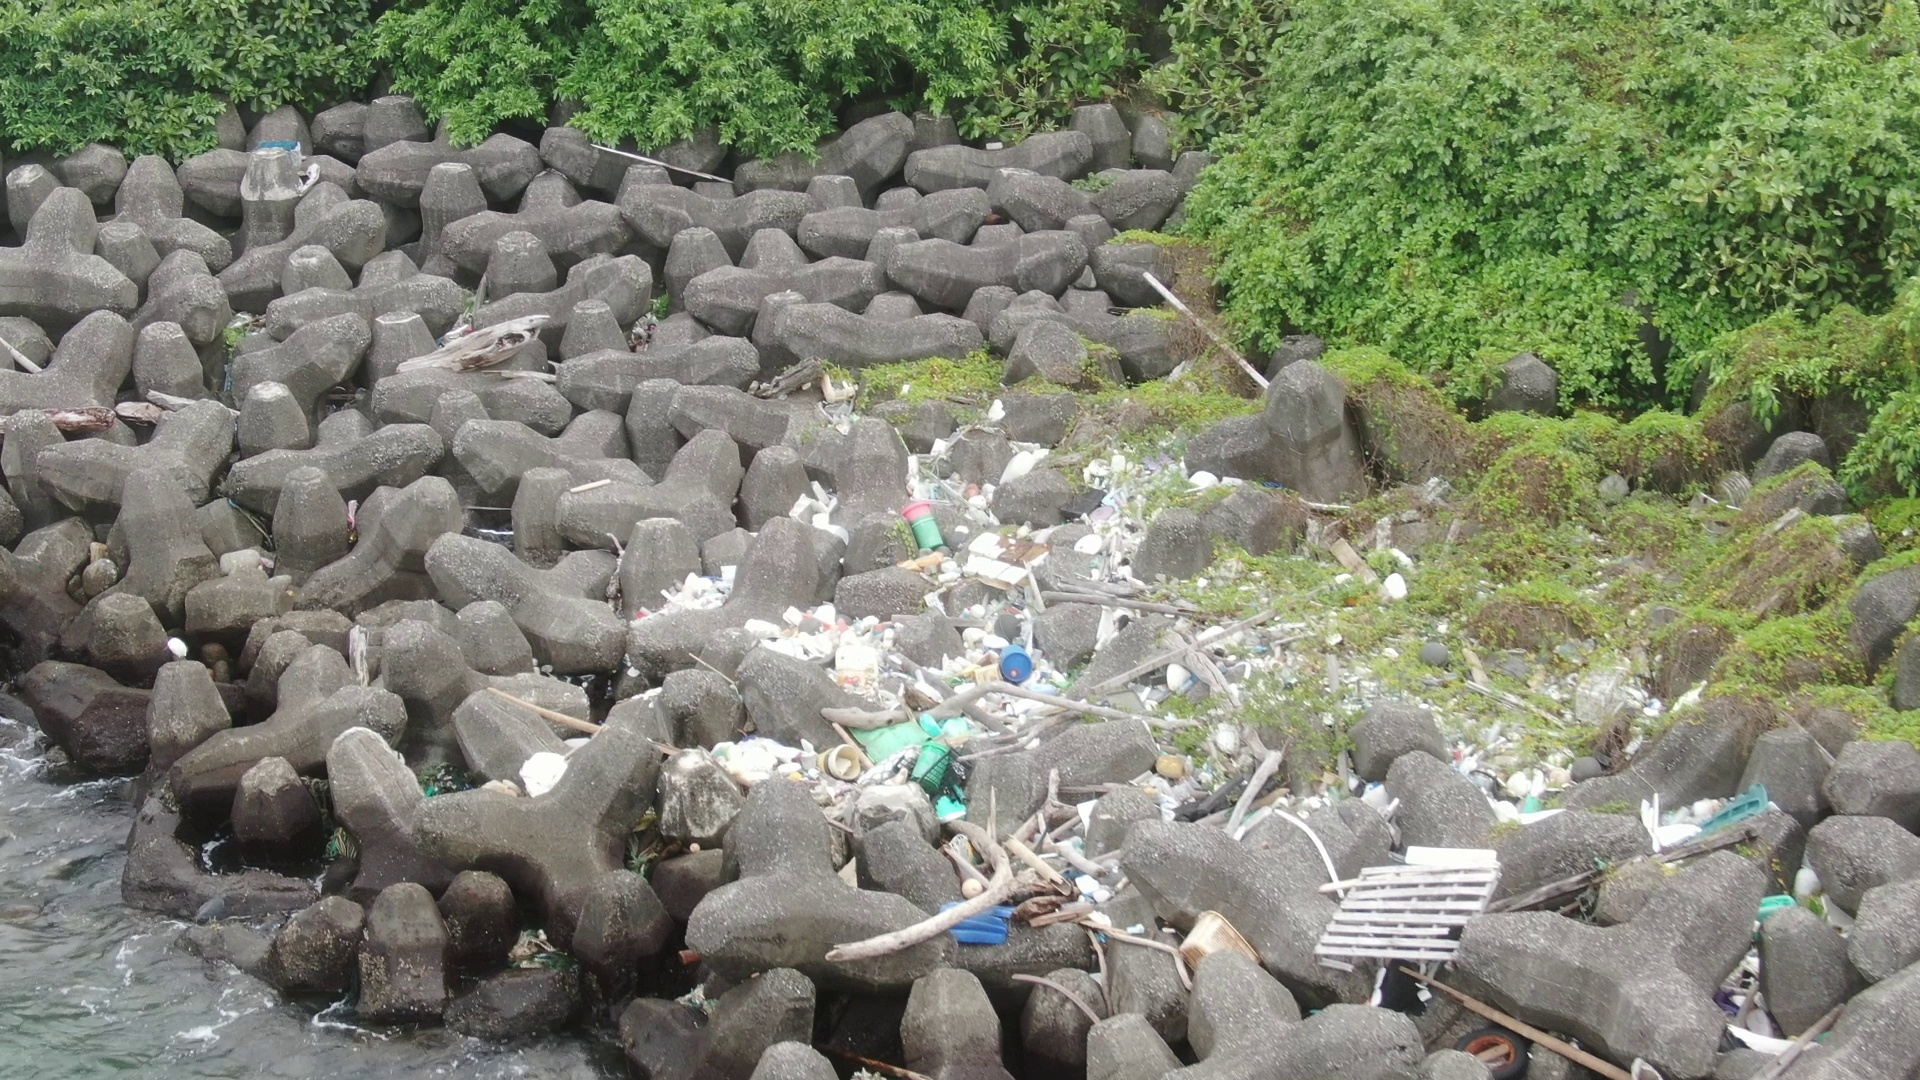garbage: (626, 396, 1621, 985), (1724, 884, 1820, 1079), (1630, 775, 1791, 869), (1418, 1015, 1578, 1080), (1415, 1013, 1576, 1077), (516, 723, 605, 808), (418, 761, 465, 808), (324, 815, 361, 870), (622, 310, 662, 357), (248, 129, 303, 156)
